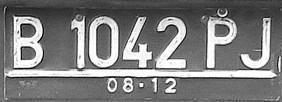0: (88, 13, 121, 68)
1: (68, 13, 88, 70)
2: (154, 12, 189, 70)
4: (120, 12, 154, 68)
B: (10, 11, 45, 69)
J: (238, 13, 272, 69)
P: (205, 13, 238, 70)
